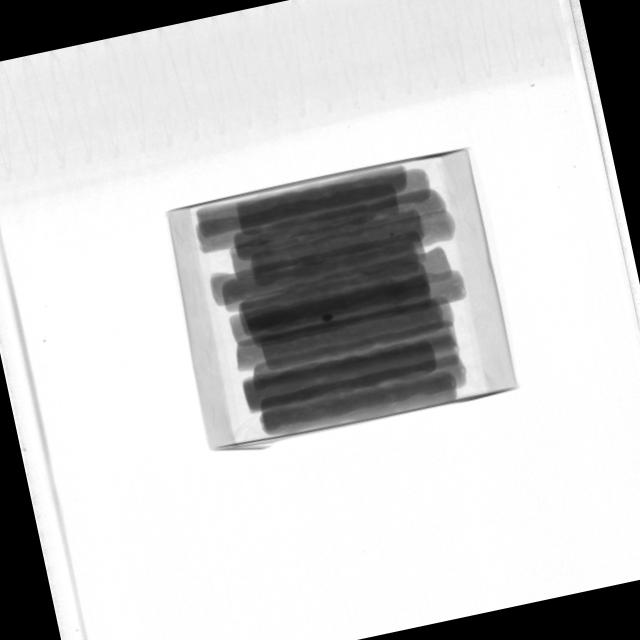ym: (321, 313, 334, 323), (389, 232, 394, 237)
